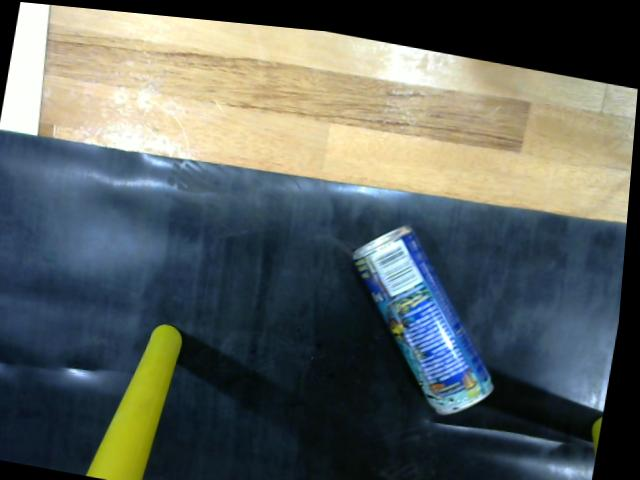can: (347, 208, 508, 421)
